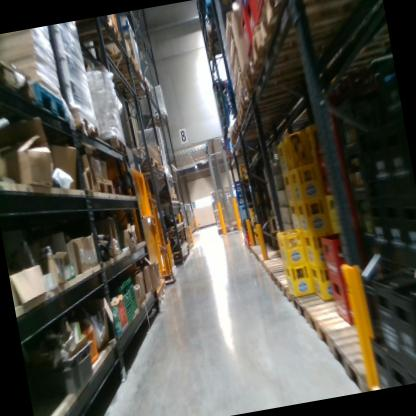pallet: (235, 26, 390, 104), (244, 0, 378, 72), (319, 317, 402, 394), (251, 0, 382, 41), (26, 63, 79, 145), (296, 291, 368, 348), (237, 70, 311, 116), (0, 30, 41, 109), (286, 278, 363, 319), (238, 90, 314, 128), (68, 99, 104, 145), (74, 15, 121, 42), (101, 57, 144, 86), (277, 269, 313, 303), (116, 73, 155, 104), (96, 48, 136, 77), (197, 21, 234, 49), (200, 0, 242, 22), (100, 131, 128, 159), (92, 175, 118, 204), (167, 238, 194, 263), (139, 111, 171, 131), (265, 270, 293, 291), (137, 155, 161, 177), (162, 218, 187, 238), (233, 109, 252, 131), (159, 190, 180, 205), (155, 162, 167, 181), (231, 119, 241, 136), (186, 241, 195, 248)
